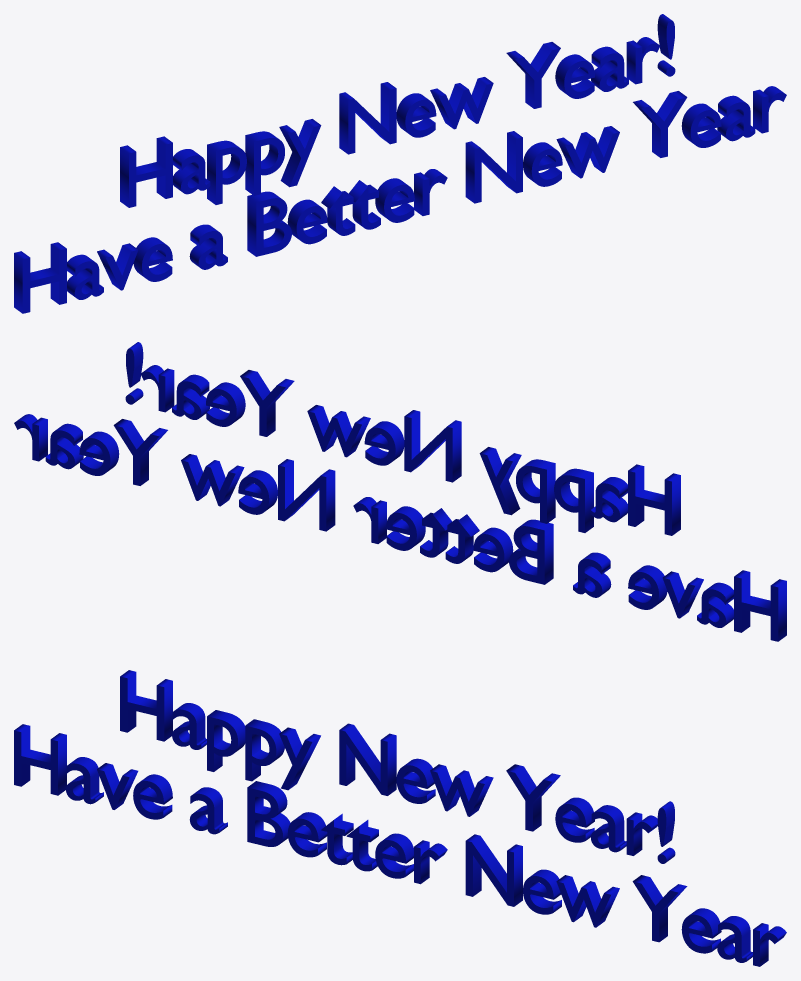
The model's file is happy_new_year.obj.
3 renders of one model, top to bottom at view 1: azimuth 30°, elevation 25°; view 2: azimuth 150°, elevation 25°; view 3: azimuth 330°, elevation 25°, orthographic.
Parts seen in each view (by area): view 1: テキスト; view 2: テキスト; view 3: テキスト.
Boxes of the visible parts, x1,y1,x2,y2 form: テキスト: (14, 14, 786, 313); テキスト: (14, 342, 786, 641); テキスト: (14, 670, 786, 966).
Bounding box in the file's own units: 10.01 × 1.7 × 0.2.
